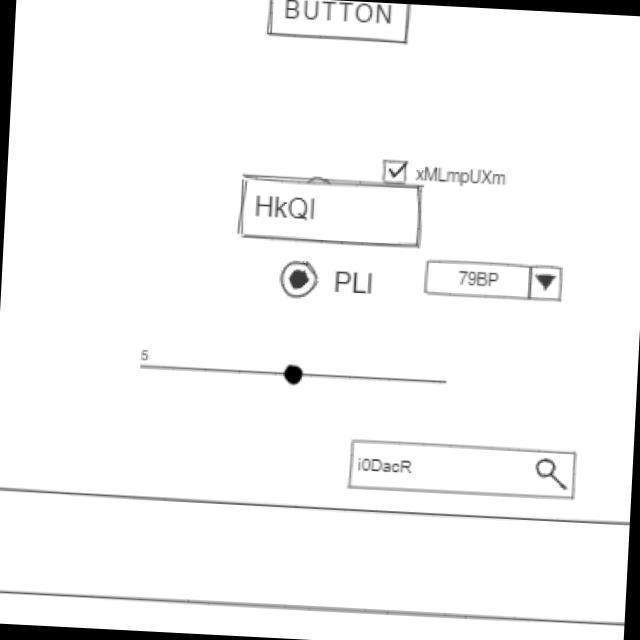button: (261, 1, 413, 49)
checkbox: (382, 156, 509, 195)
container: (1, 482, 631, 629)
input: (235, 171, 429, 256)
radio: (276, 258, 320, 303)
search: (347, 436, 582, 505)
select: (423, 258, 571, 307)
slider: (155, 355, 452, 395)
